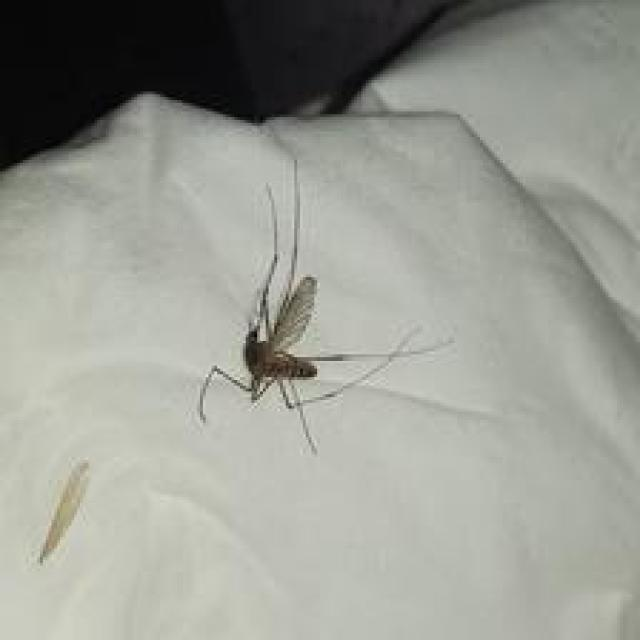Culex: (196, 158, 453, 456)
